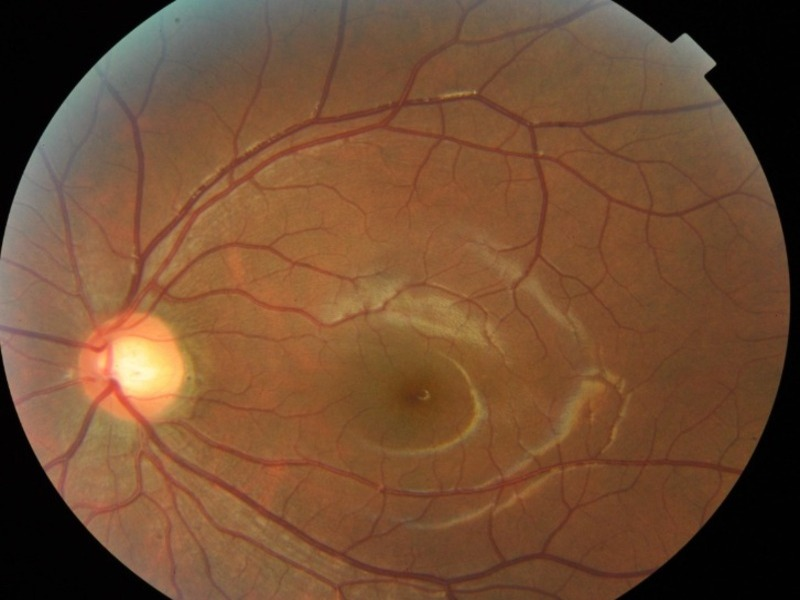Optic Cup: (103, 338, 157, 390)
Optic Disc: (76, 310, 184, 420)
